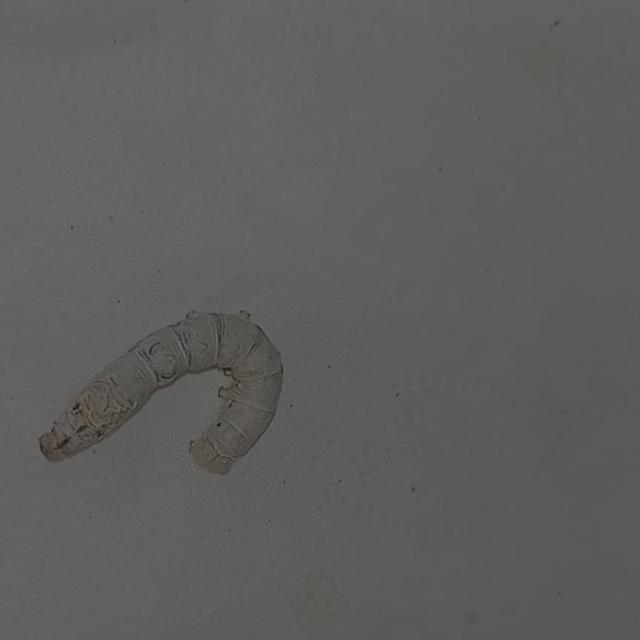Healthy: (23, 300, 289, 483)
